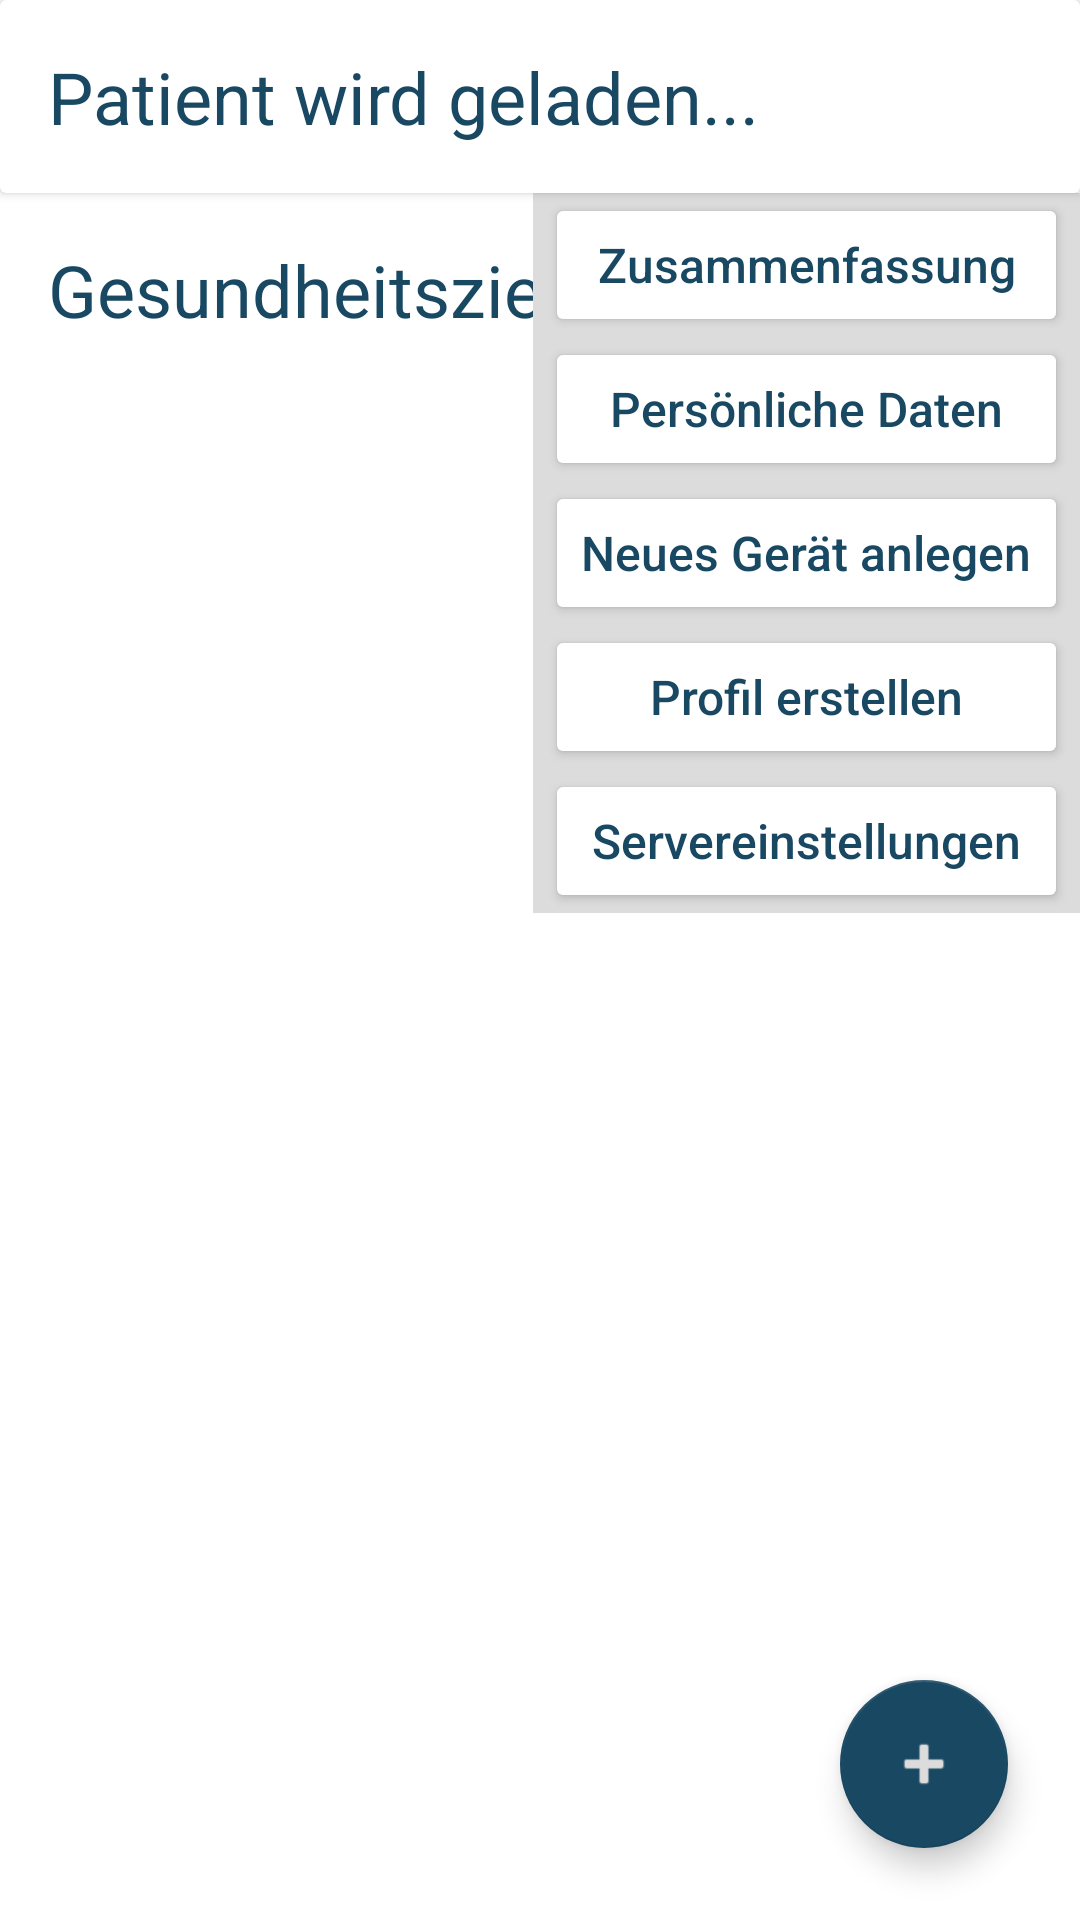

Screen size 1080px×1920px. Icon name, then its box in pixels as [x1, y1, x2, y2]:
Neues Gesundheitsziel erstellen: [840, 1680, 1008, 1848]
